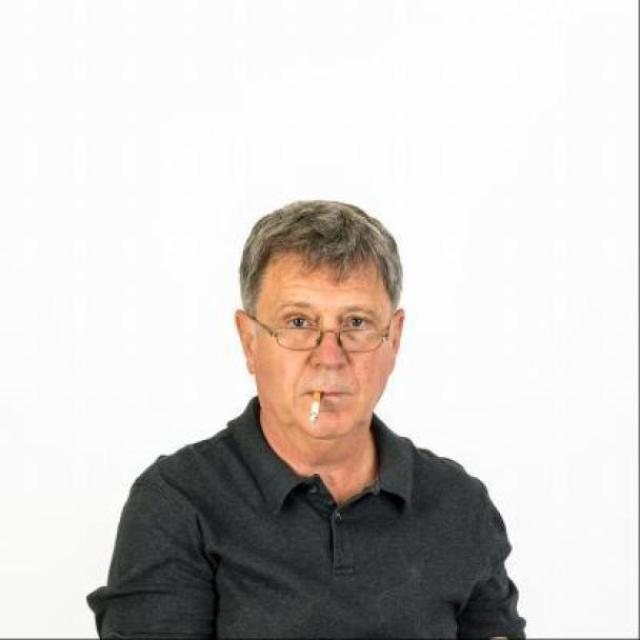rokok: (307, 388, 329, 430)
